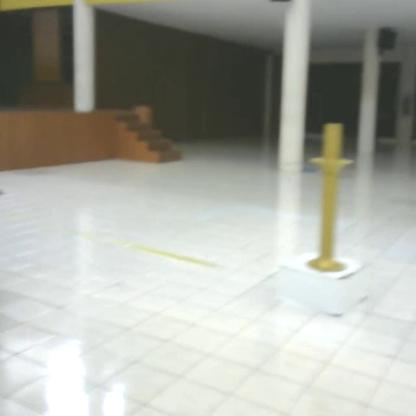pole: (305, 112, 359, 278)
